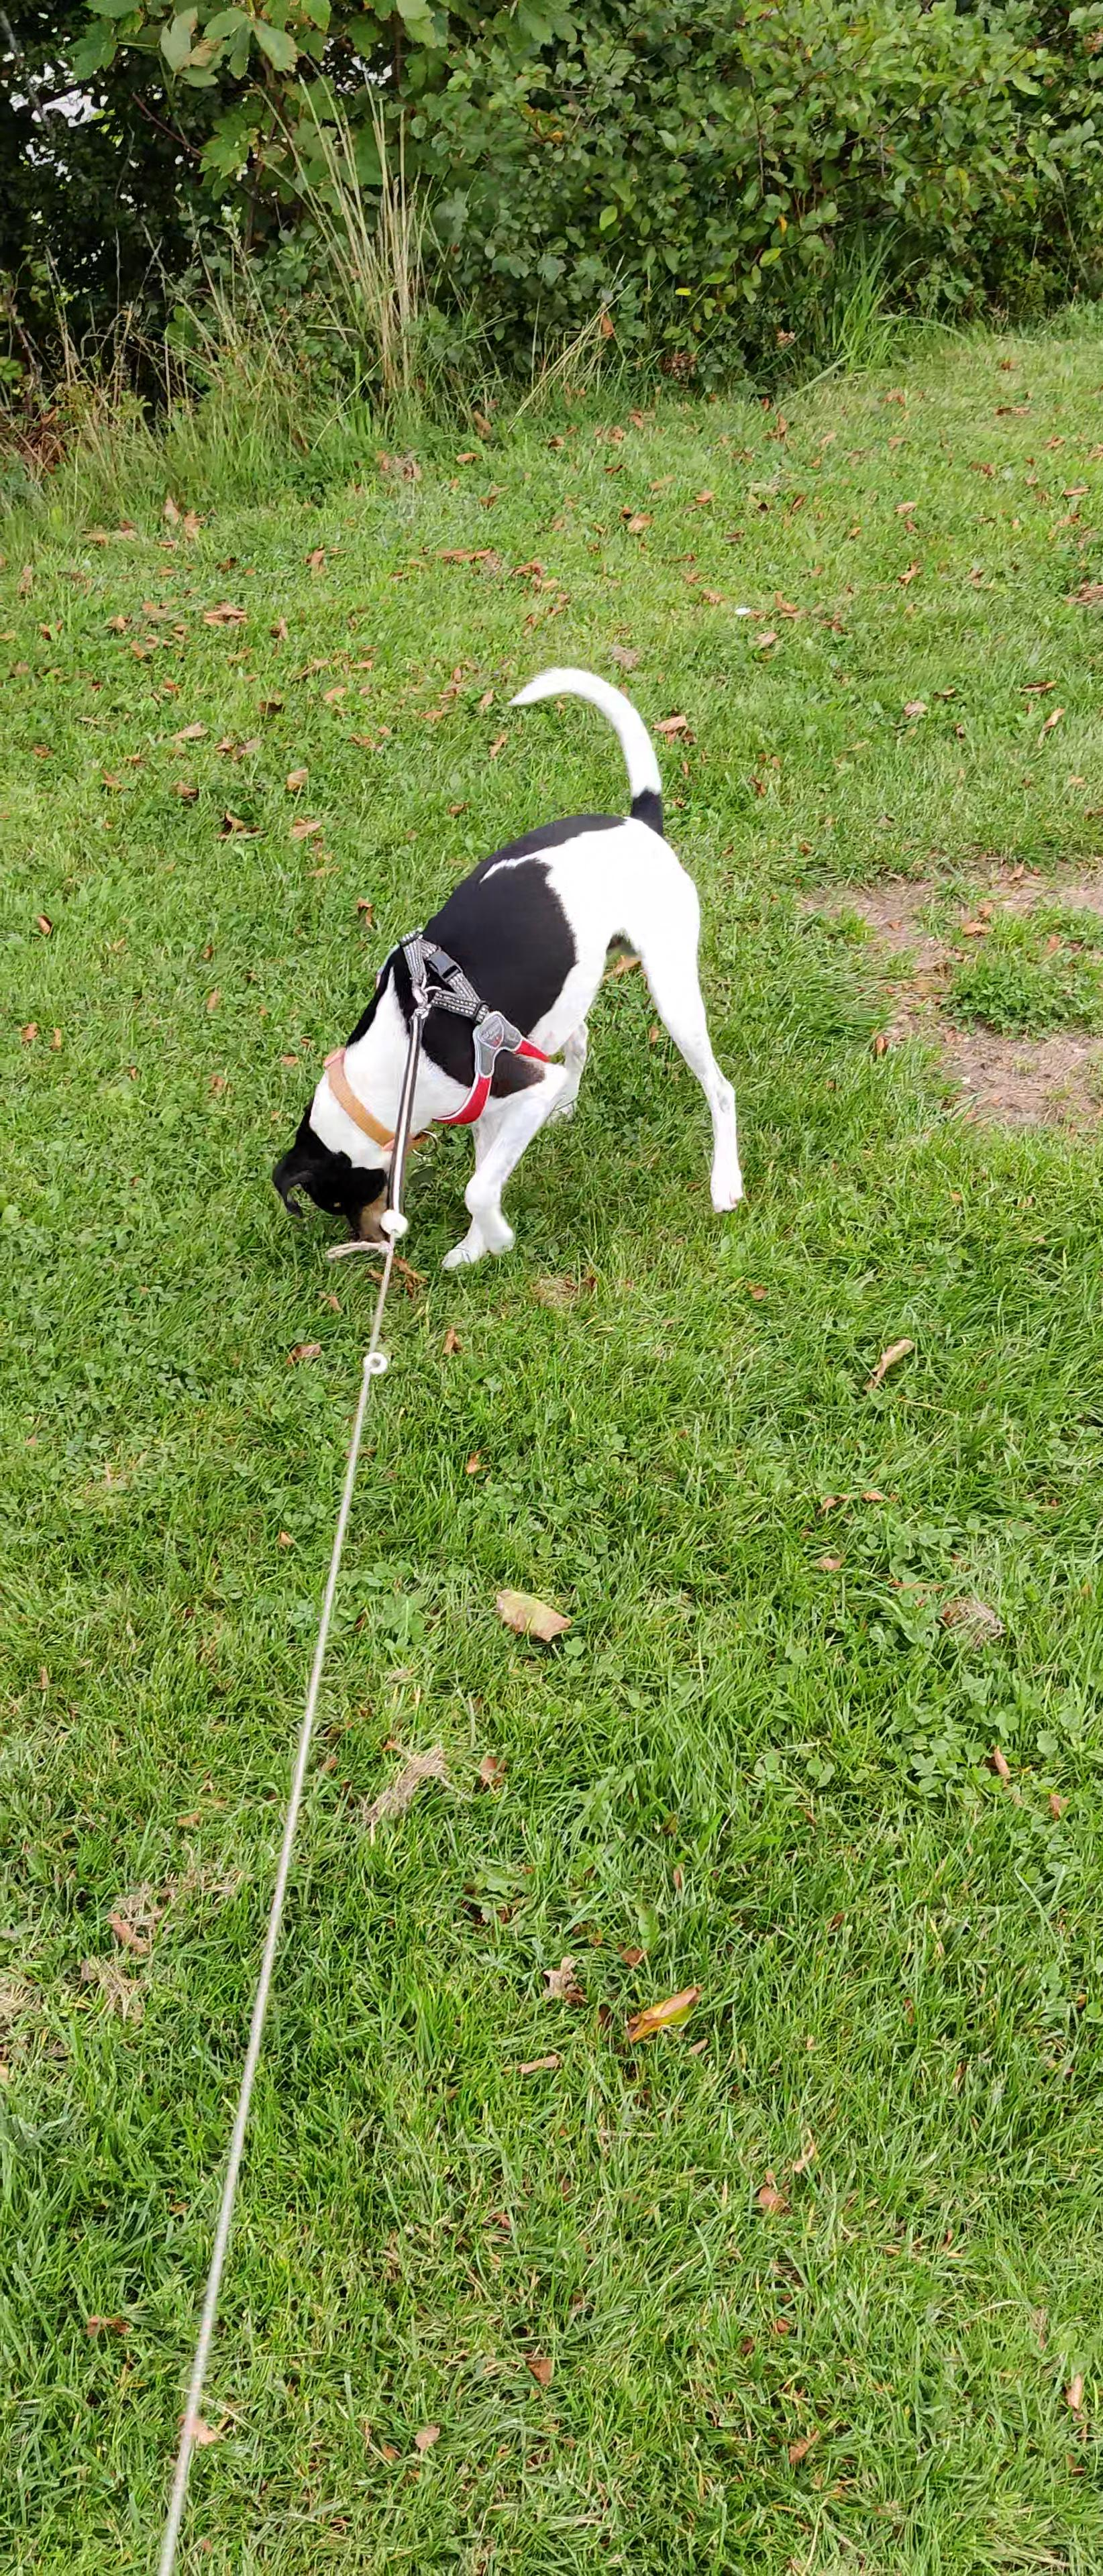Dog: (258, 655, 755, 1276)
